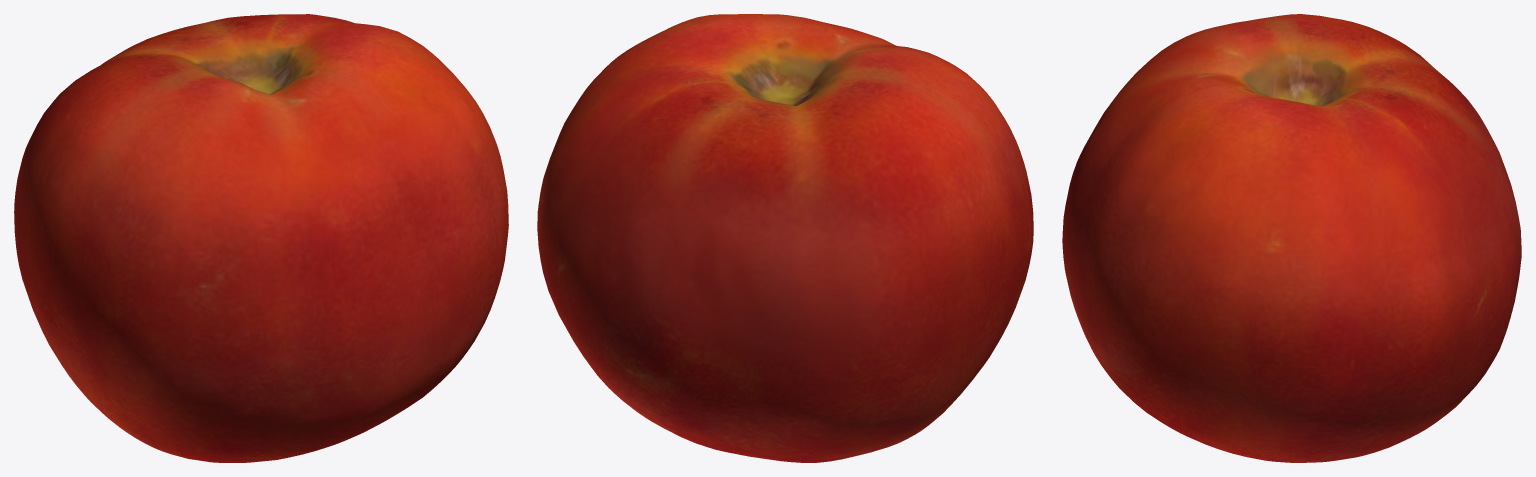
3 renders of one model, left to right at view 1: azimuth 30°, elevation 25°; view 2: azimuth 150°, elevation 25°; view 3: azimuth 270°, elevation 25°, orthographic. The views are drawn at different scales.
Visible parts, largest first — view 1: sm_food_produce_tomato_a01_mesh_00; view 2: sm_food_produce_tomato_a01_mesh_00; view 3: sm_food_produce_tomato_a01_mesh_00.
Part boxes in pixels (x1=…): sm_food_produce_tomato_a01_mesh_00: x1=14, y1=14, x2=508, y2=462; sm_food_produce_tomato_a01_mesh_00: x1=537, y1=14, x2=1033, y2=462; sm_food_produce_tomato_a01_mesh_00: x1=1062, y1=14, x2=1521, y2=462.
Bounding box in the file's own units: 0.065 × 0.0568 × 0.0621.
Materials: 1 (1 with a texture image).
